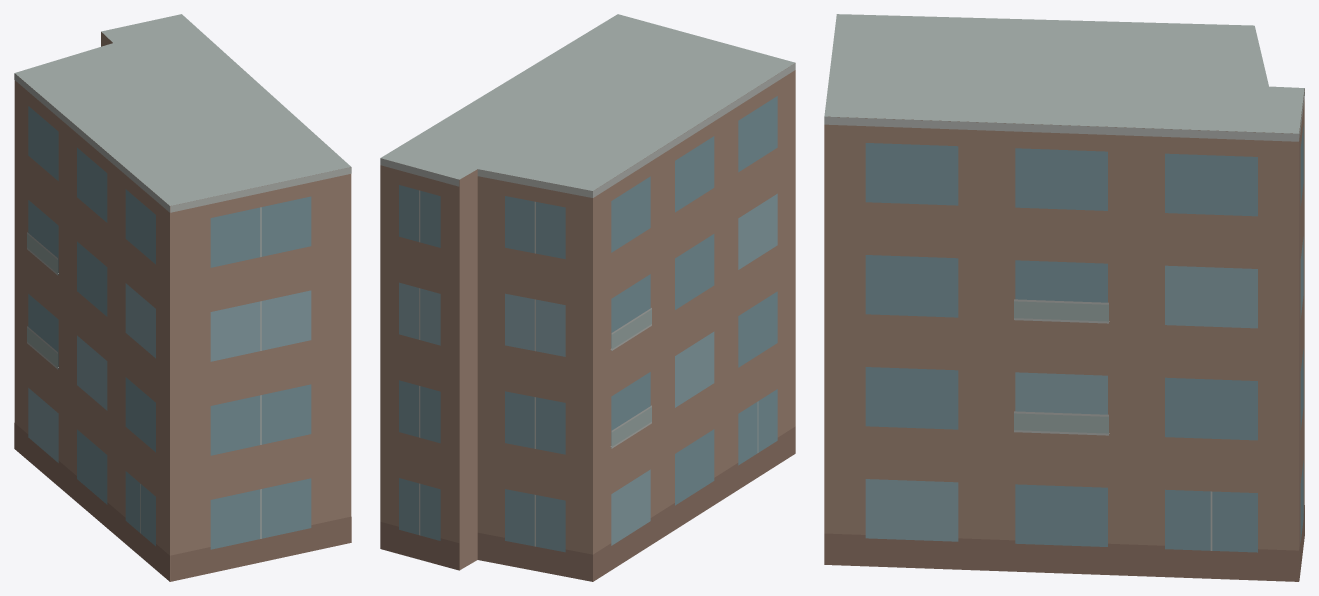
Rendered from survey-upis-32766811.glb.
The picture shows the model from 3 angles, left to right: view 1: azimuth 30°, elevation 25°; view 2: azimuth 150°, elevation 25°; view 3: azimuth 270°, elevation 25°; orthographic projection. The views are drawn at different scales.
Parts seen in each view (by area): view 1: survey-upis-32766811.tmp; view 2: survey-upis-32766811.tmp; view 3: survey-upis-32766811.tmp.
Boxes of the visible parts, x1,y1,x2,y2 form: survey-upis-32766811.tmp: (14, 14, 351, 581); survey-upis-32766811.tmp: (380, 14, 795, 581); survey-upis-32766811.tmp: (824, 14, 1304, 581).
Bounding box in the file's own units: 7.74 × 13.5 × 13.12.
